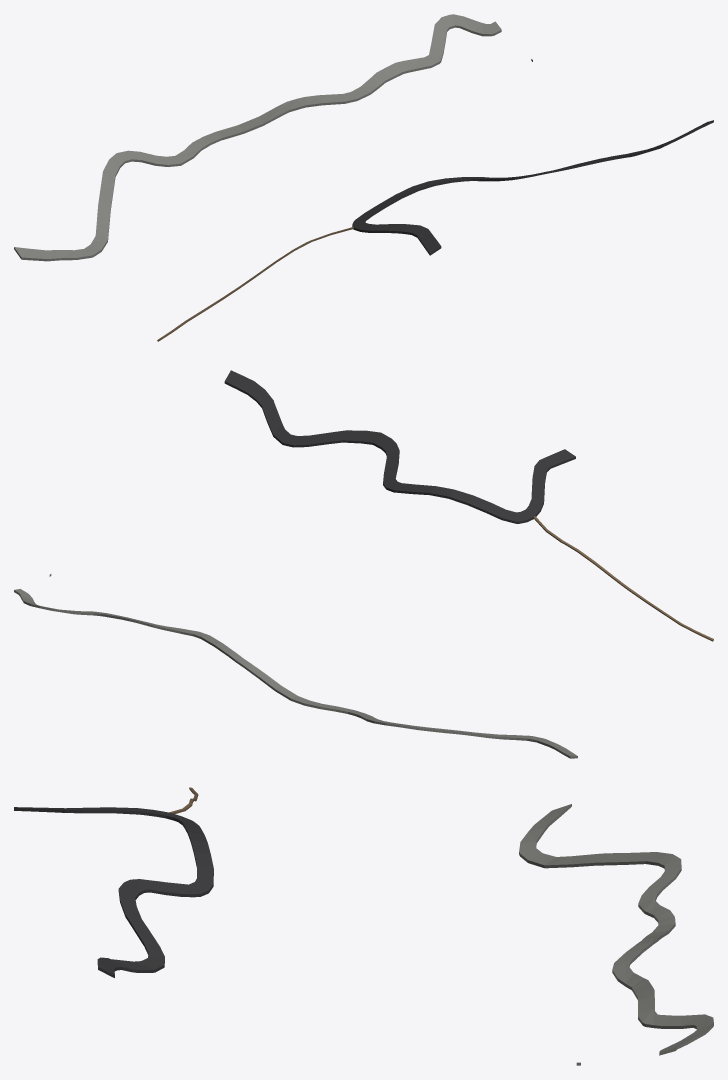
The model's file is 17-109452-59469.eacdaaa4.glb.
3 renders of one model, top to bottom at view 1: azimuth 30°, elevation 25°; view 2: azimuth 150°, elevation 25°; view 3: azimuth 270°, elevation 25°, orthographic. The views are drawn at different scales.
Bounding box in the file's own units: 293 × 76.02 × 258.
